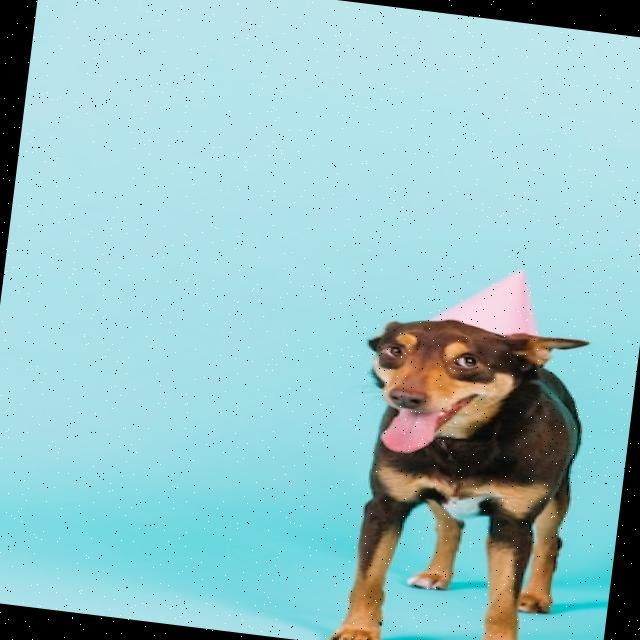Dog: (331, 308, 639, 640)
